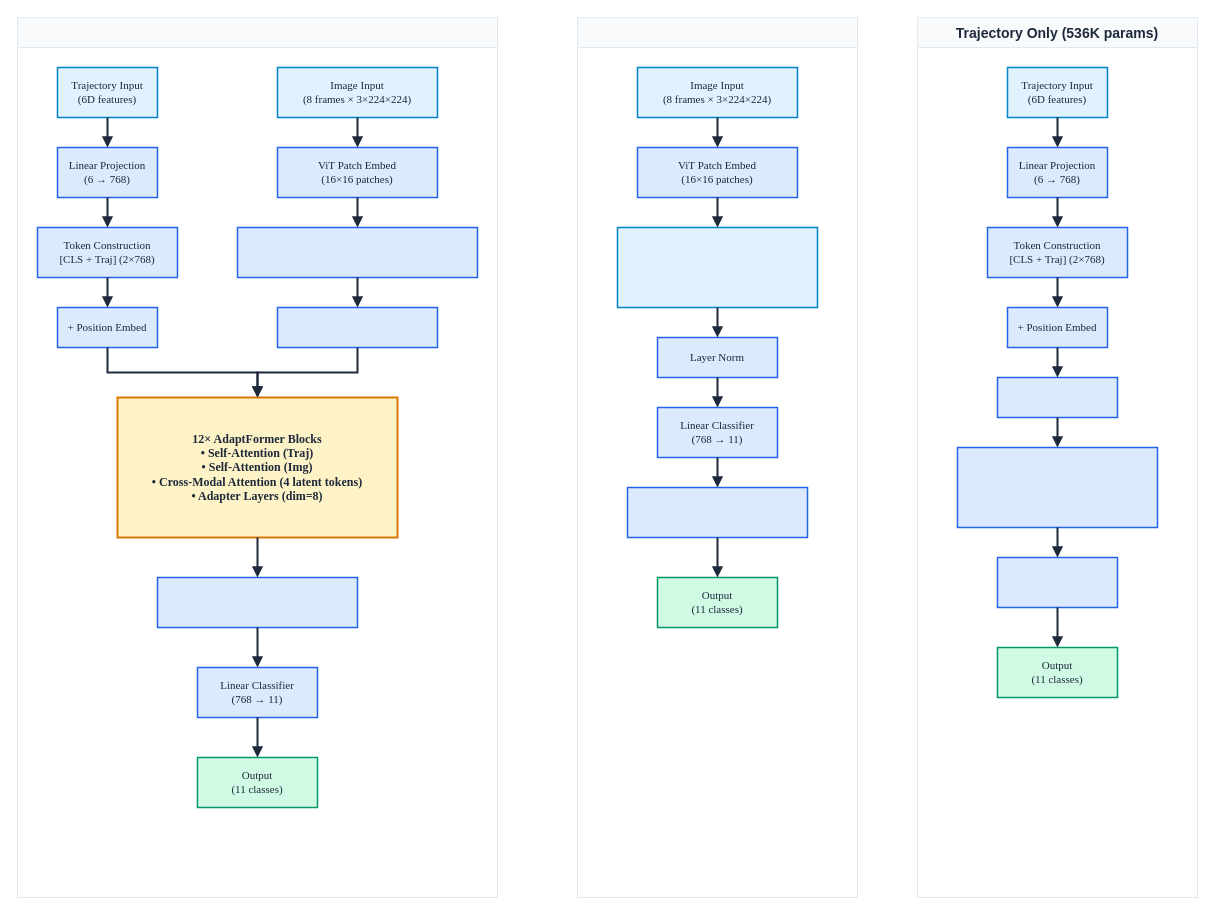
Image size: 1215x915. Some labels were removed from this diagram. Here are the shapes that lost their labels. From the top down, the box of each, then its label:
(236, 226, 478, 278): Token Construction [CLS + 1568 patches] (1569×768)
(616, 226, 818, 308): 12× Transformer Blocks (Frozen ViT-B/16) 768-dim, 12 heads
(276, 306, 438, 348): + Interpolated Pos Embed
(996, 376, 1118, 418): Extract CLS Token
(16, 16, 498, 898): Multimodal MBT (371K params)
(576, 16, 858, 898): Image Only (16K params)
(956, 446, 1158, 528): MLP Encoder 768 → 512 (ReLU+Dropout) 512 → 256 (ReLU+Dropout)
(626, 486, 808, 538): Frame Averaging (mean over 8 frames)
(156, 576, 358, 628): Extract CLS Tokens & Element-wise Mean
(996, 556, 1118, 608): Linear Classifier (256 → 11)
